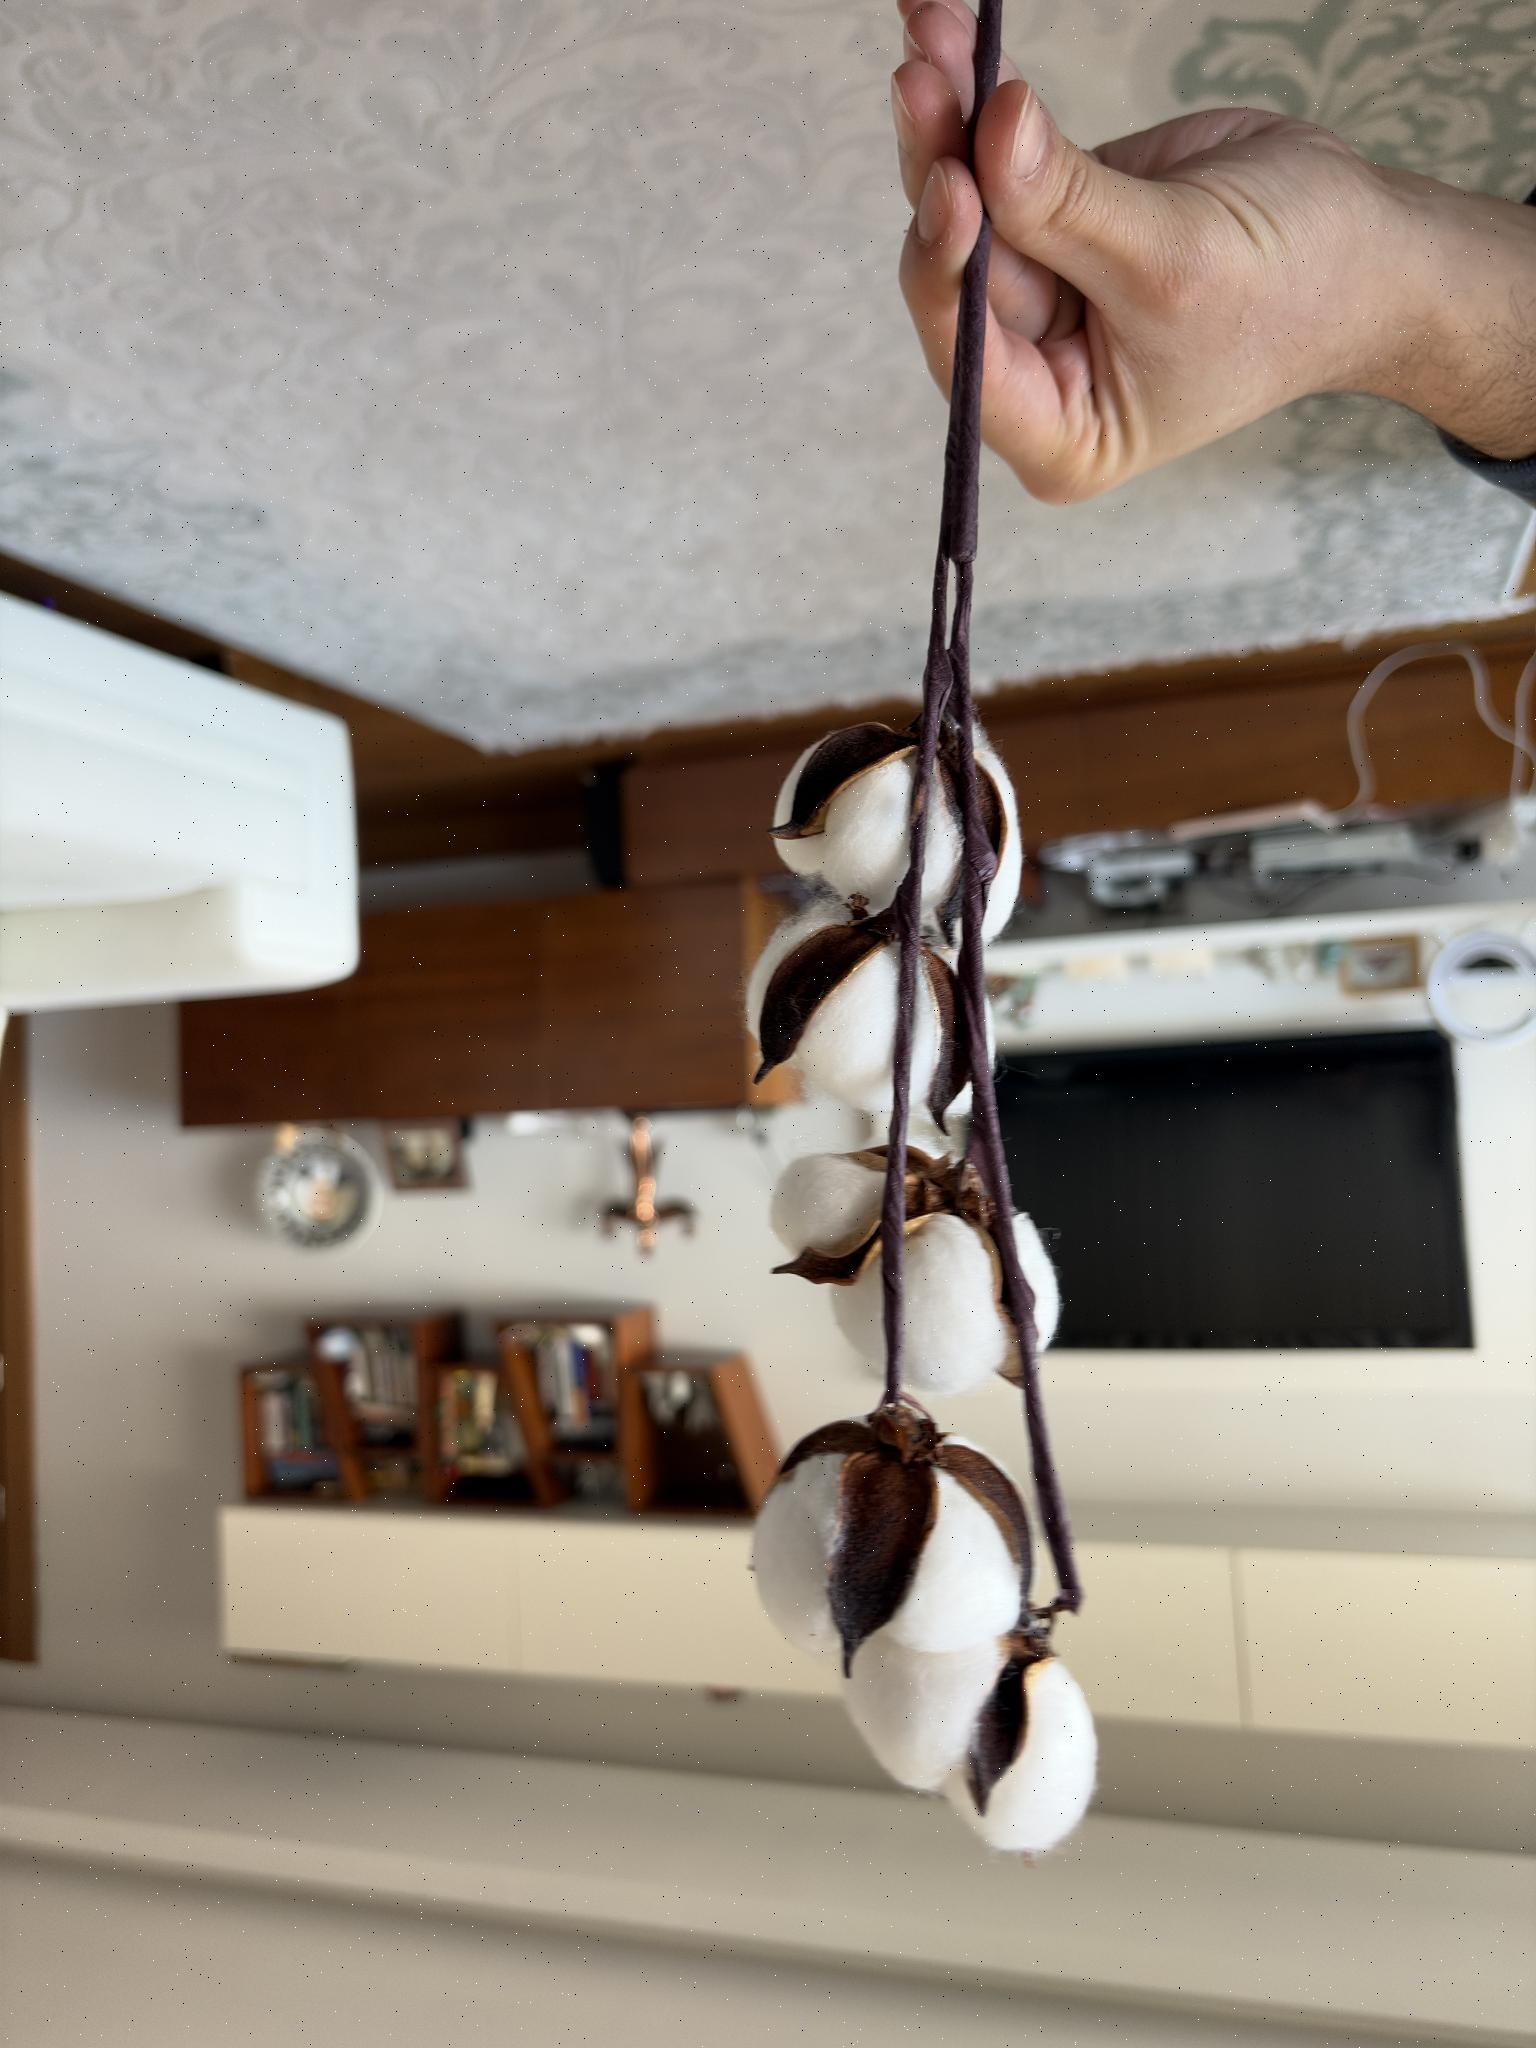cotton_boll: (942, 1658, 1097, 1853), (771, 726, 916, 913), (844, 1624, 1004, 1790), (887, 1471, 1021, 1653), (774, 942, 899, 1119), (902, 1214, 1008, 1397), (783, 948, 897, 1116), (745, 898, 865, 1055), (752, 1453, 842, 1655), (770, 1153, 884, 1253), (976, 737, 1021, 940), (1013, 1211, 1060, 1350), (923, 766, 960, 937), (910, 979, 944, 1121), (831, 1274, 883, 1361), (910, 982, 937, 1106)
cotton_boll-cluster: (734, 1398, 1107, 1903), (765, 1130, 1068, 1416), (770, 706, 1036, 939), (745, 903, 1000, 1129)
